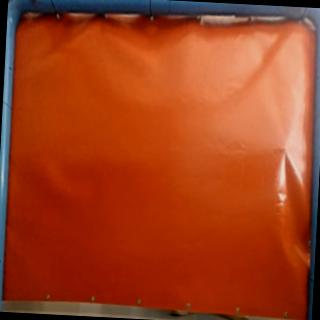Hit-hRxx: (276, 144, 294, 154)
